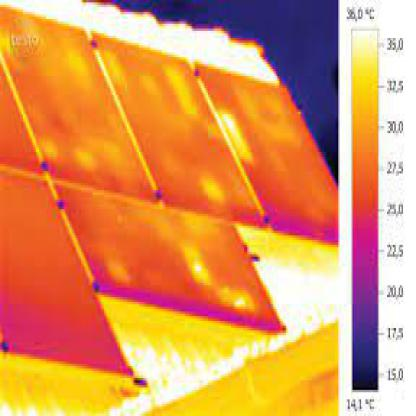Defects: (167, 66, 198, 124), (225, 114, 250, 176), (106, 45, 124, 98), (205, 173, 221, 214), (188, 249, 205, 280), (227, 288, 251, 309), (79, 147, 94, 169)
